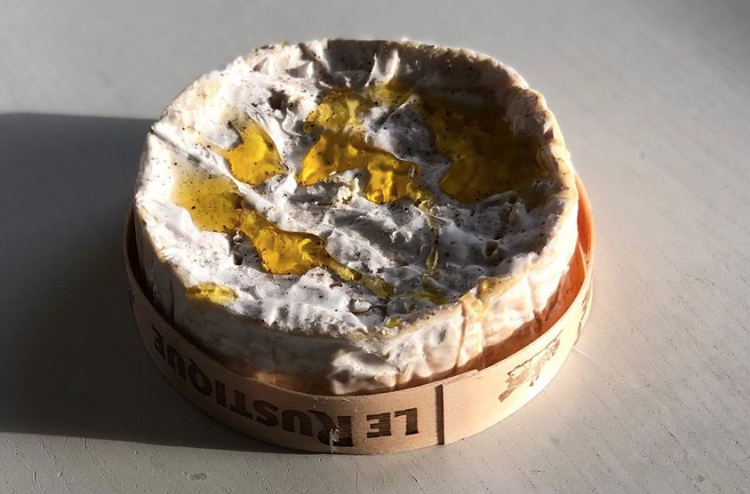camembert: (130, 32, 587, 424)
